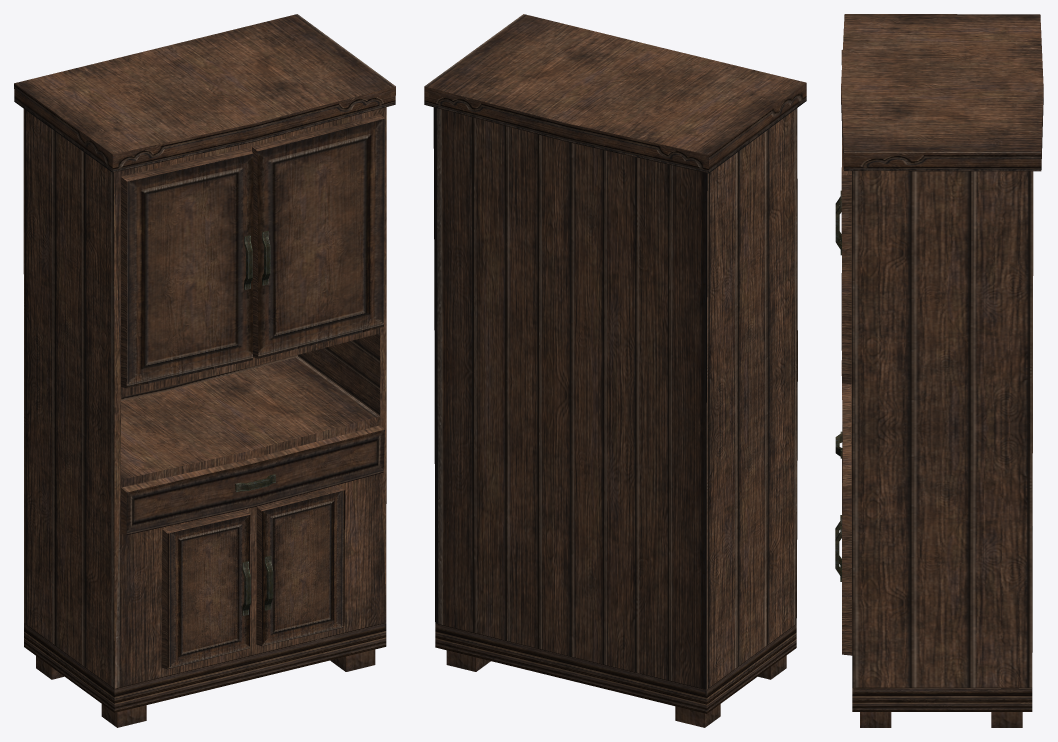
The model's file is GS_VOB_WARDROBE_ORANGE_01_KOZA.glb.
3 views of the same model, side by side, from view 1: azimuth 30°, elevation 25°; view 2: azimuth 150°, elevation 25°; view 3: azimuth 270°, elevation 25° (orthographic).
Visible parts, largest first — view 1: GS_VOB_WARDROBE_ORANGE_01_KOZA; view 2: GS_VOB_WARDROBE_ORANGE_01_KOZA; view 3: GS_VOB_WARDROBE_ORANGE_01_KOZA.
Part boxes in pixels (bbox=[...]): GS_VOB_WARDROBE_ORANGE_01_KOZA: bbox=[14, 14, 395, 727]; GS_VOB_WARDROBE_ORANGE_01_KOZA: bbox=[424, 14, 806, 727]; GS_VOB_WARDROBE_ORANGE_01_KOZA: bbox=[835, 14, 1043, 727].
Bounding box in the file's own units: 1.48 × 2.91 × 0.9415.
Materials: 3 (3 with a texture image).
